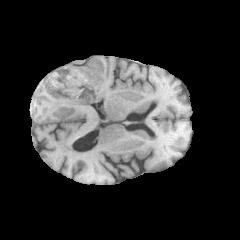glioma: (38, 60, 104, 122)
